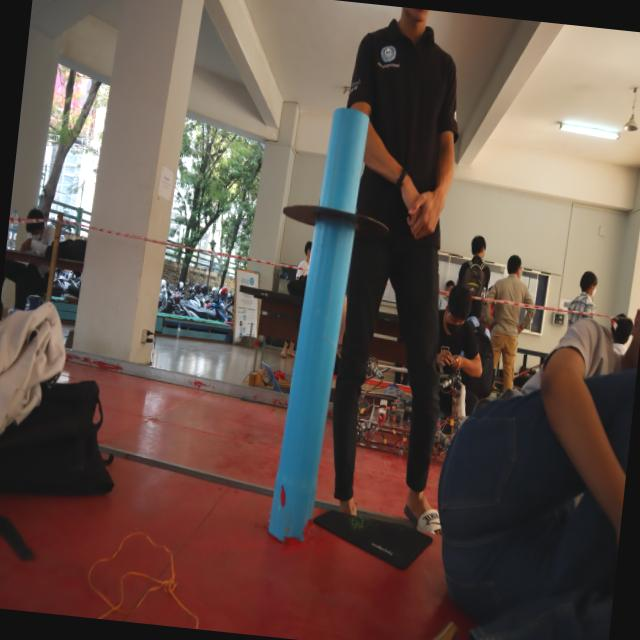pole: (266, 88, 412, 340)
